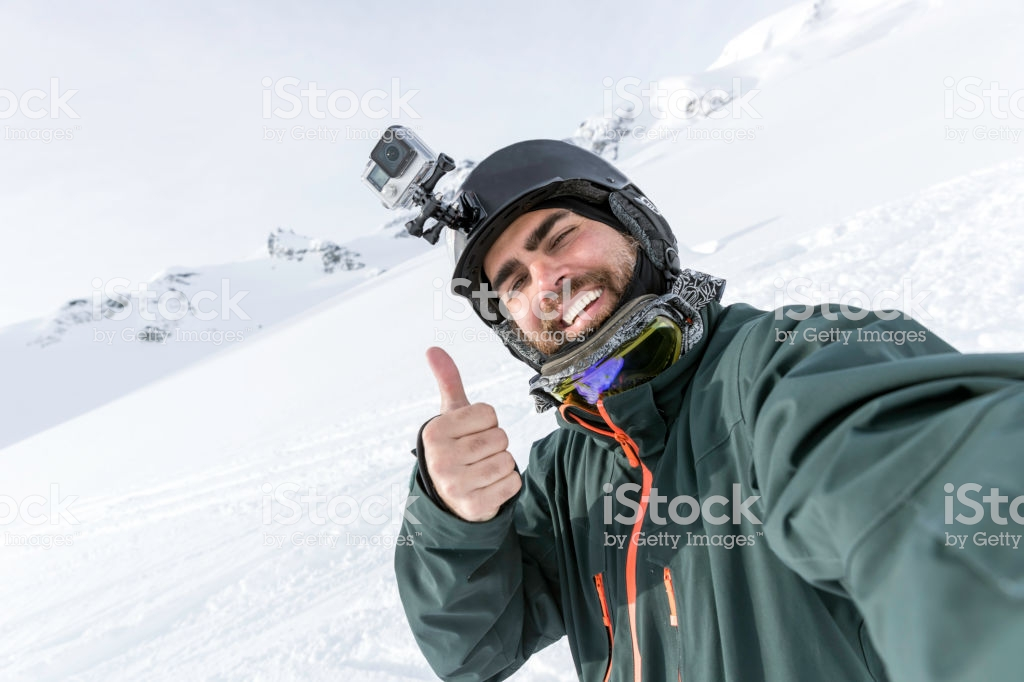thumbsup: (418, 344, 526, 524)
